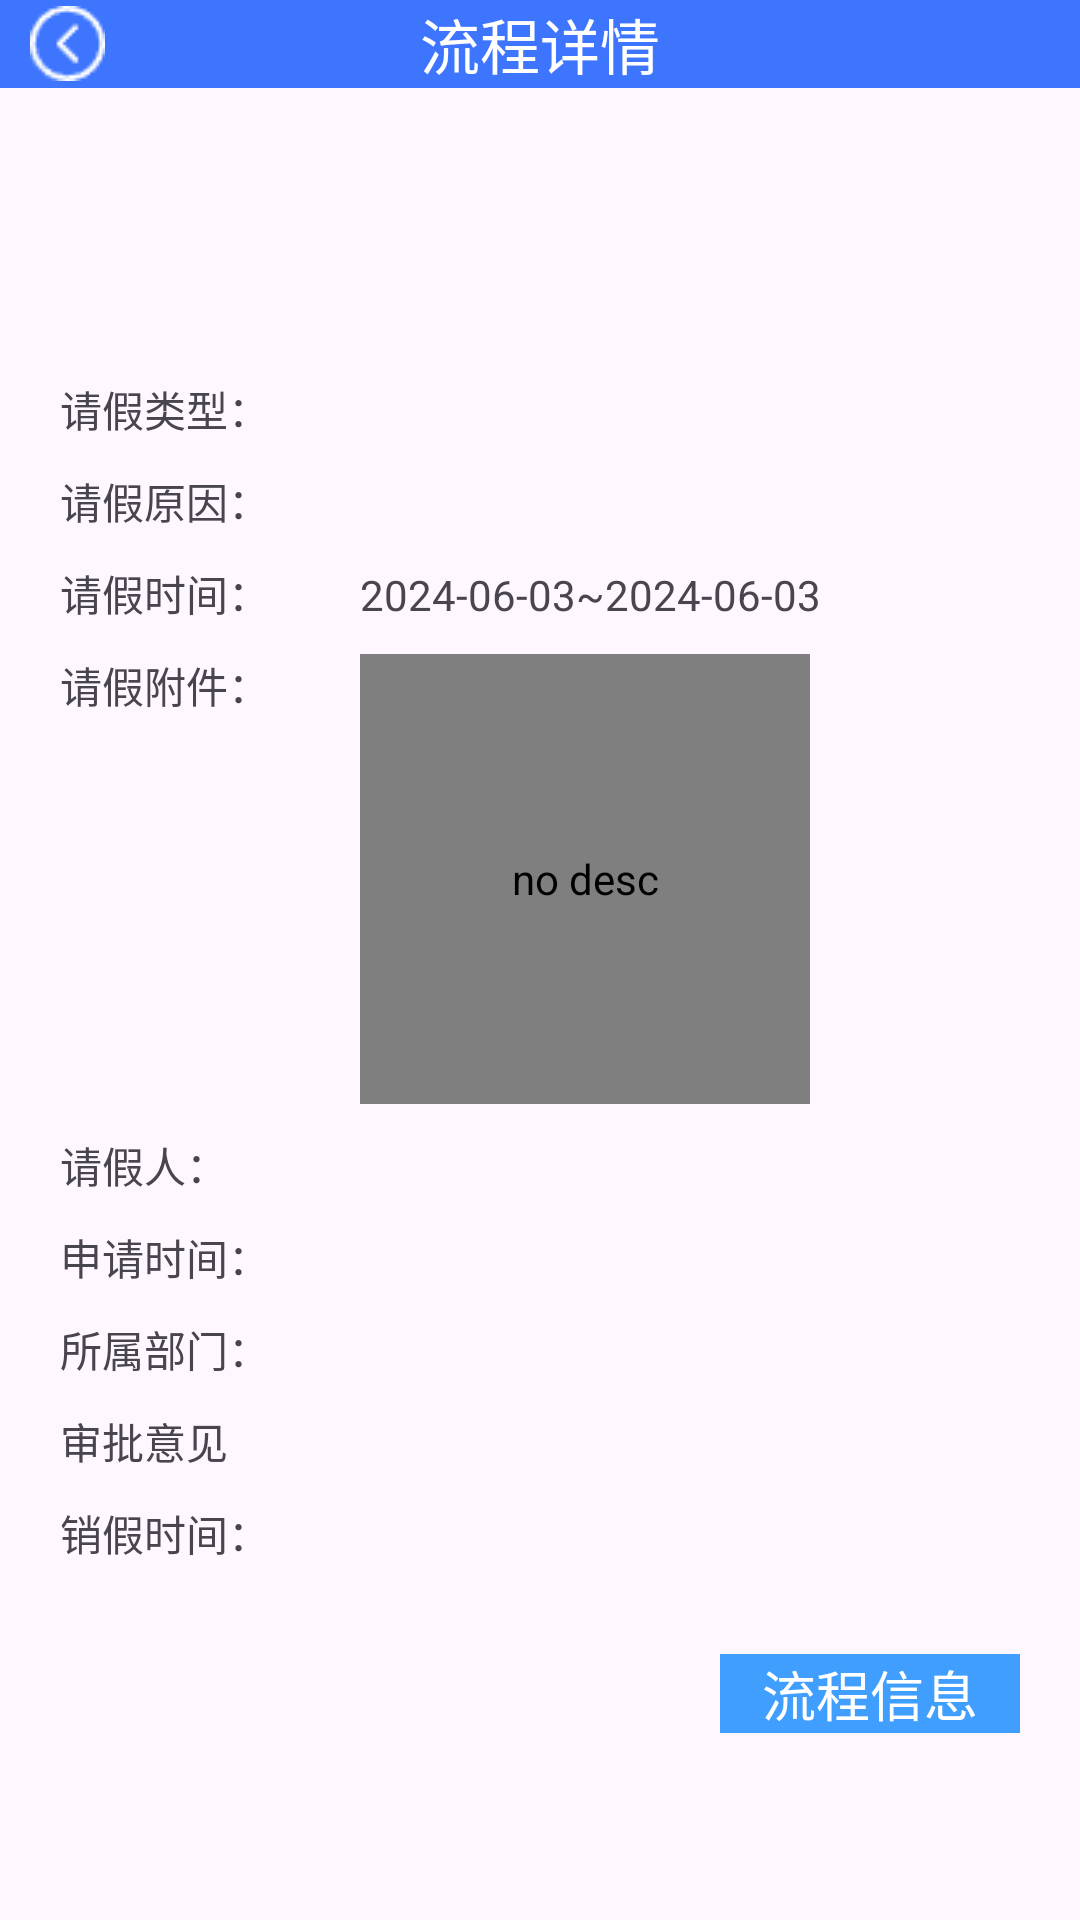

Named icons in this screenshot (1080 × 1920) and their centers, [x,y]:
back: [67,43]
